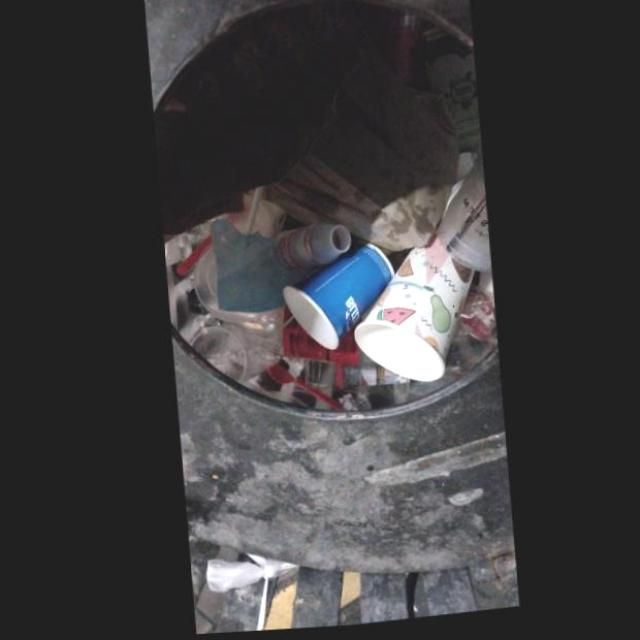carton: (351, 243, 471, 388), (280, 247, 393, 354)
hop_nhua: (436, 155, 490, 278), (189, 326, 282, 386)
ong_hut_nhua: (240, 186, 262, 236)
